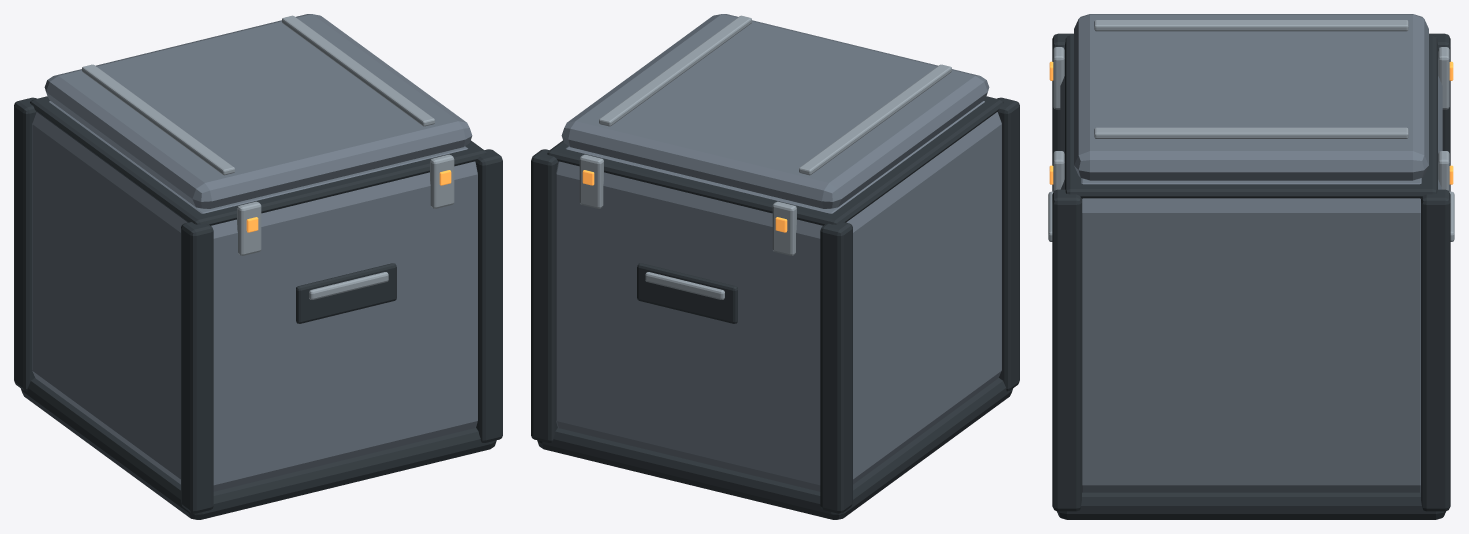
The model's file is sector11_supply_case_v1.glb.
The picture shows the model from 3 angles, left to right: view 1: azimuth 30°, elevation 25°; view 2: azimuth 150°, elevation 25°; view 3: azimuth 270°, elevation 25°; orthographic projection. The views are drawn at different scales.
Parts seen in each view (by area): view 1: Sector11SupplyCase; view 2: Sector11SupplyCase; view 3: Sector11SupplyCase.
Part boxes in pixels (box(x1,y1,x2,y2)): Sector11SupplyCase: box(14, 14, 502, 519); Sector11SupplyCase: box(531, 14, 1019, 519); Sector11SupplyCase: box(1048, 14, 1454, 519).
Bounding box in the file's own units: 0.875 × 0.8855 × 0.892.
